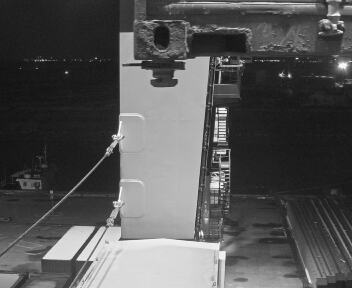twist_lock_1: (264, 139, 324, 185)
